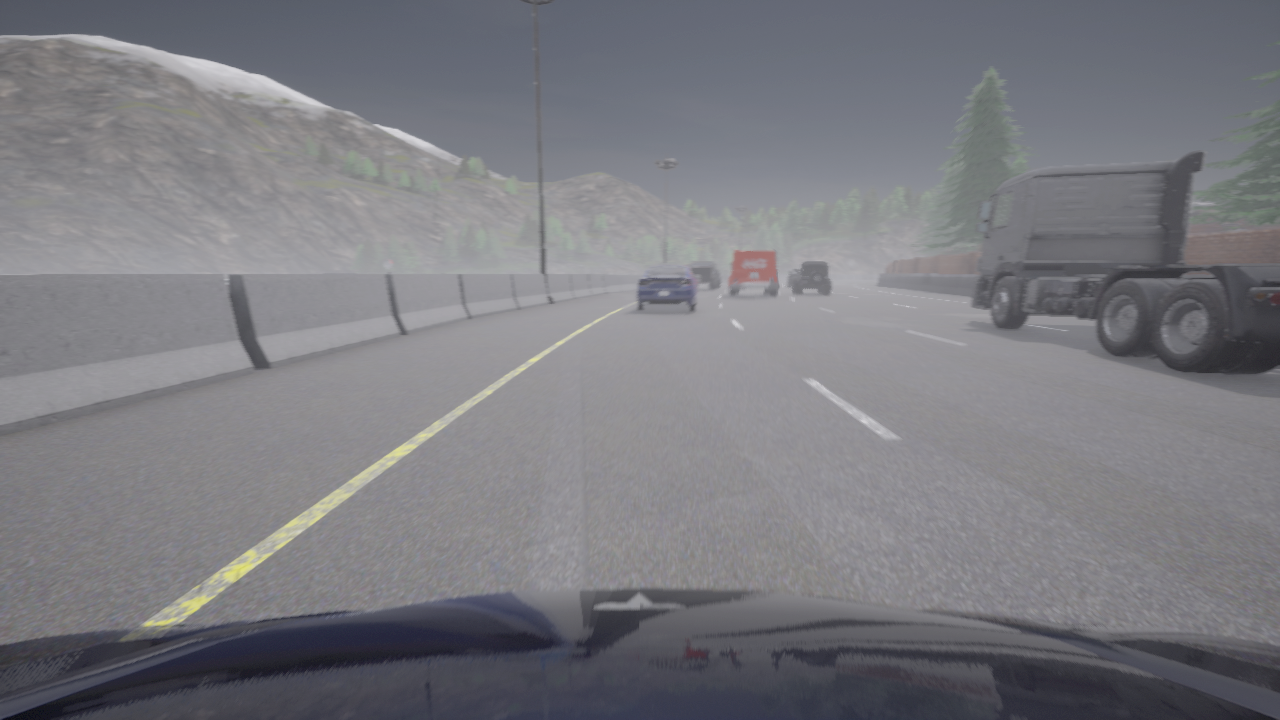cyclist: (0, 588, 1279, 719), (972, 151, 1279, 375), (636, 264, 699, 311), (729, 250, 778, 296), (793, 262, 830, 294), (687, 262, 721, 290), (788, 269, 800, 286)
